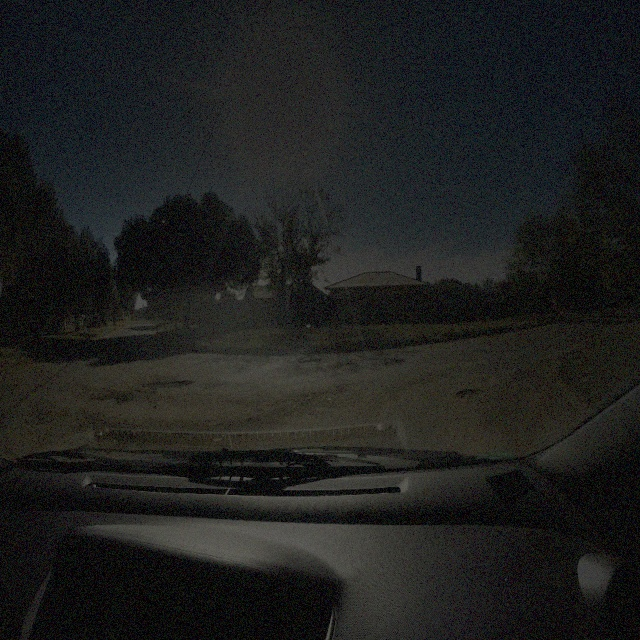pothole: (138, 376, 194, 392), (455, 385, 481, 399)
